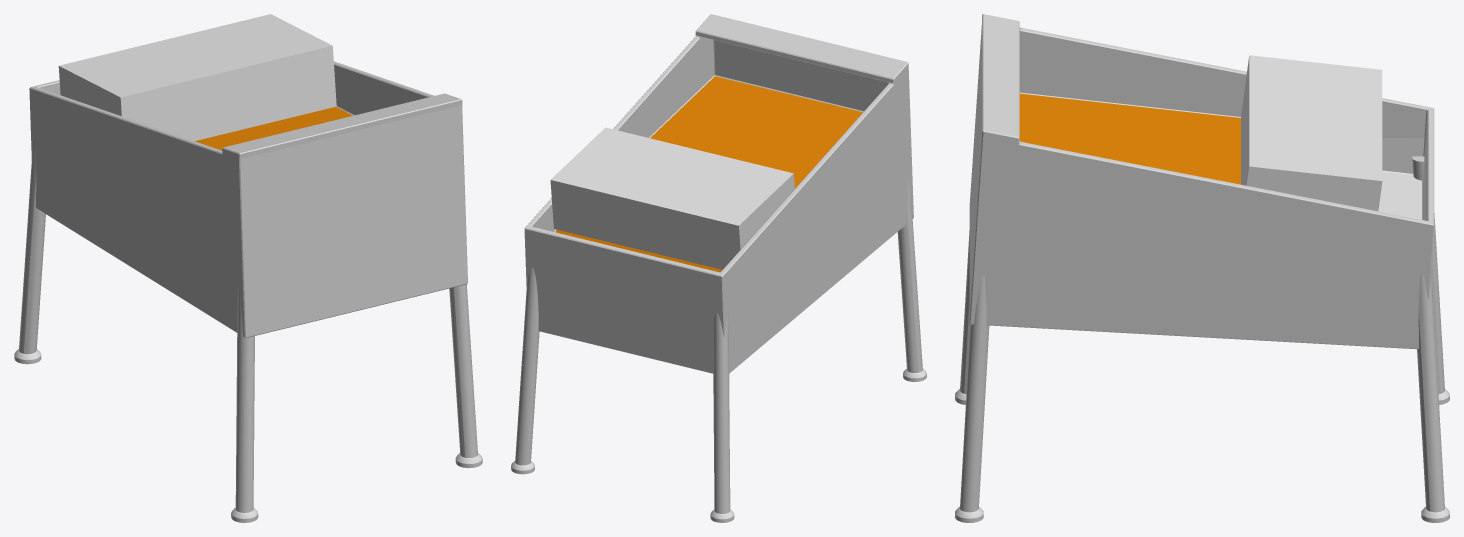
Rendered from ArcadeMachine1.fbx.
3 views of the same model, side by side, from view 1: azimuth 30°, elevation 25°; view 2: azimuth 150°, elevation 25°; view 3: azimuth 270°, elevation 25° (orthographic). The views are drawn at different scales.
Parts seen in each view (by area): view 1: Arcade, ActionAreaCube, Leg.001, Leg, Leg.003, ActionArea; view 2: Arcade, ActionAreaCube, ActionArea, Leg.003, Leg.002, Leg.001; view 3: Arcade, ActionAreaCube, ActionArea, Leg.002, Leg, Leg.003, Leg.001.
Boxes of the visible parts, <box> form: Arcade: <box>29,61,467,338</box>; ActionAreaCube: <box>58,14,336,141</box>; Leg.001: <box>231,287,258,522</box>; Leg: <box>449,284,482,468</box>; Leg.003: <box>14,138,45,364</box>; ActionArea: <box>195,107,352,150</box>; Arcade: <box>524,14,913,373</box>; ActionAreaCube: <box>550,127,794,269</box>; ActionArea: <box>650,76,862,188</box>; Leg.003: <box>710,312,734,522</box>; Leg.002: <box>511,267,539,474</box>; Leg.001: <box>897,181,926,381</box>; Arcade: <box>969,14,1434,349</box>; ActionAreaCube: <box>1241,55,1382,211</box>; ActionArea: <box>1019,93,1240,184</box>; Leg.002: <box>1417,272,1449,522</box>; Leg: <box>955,275,989,522</box>; Leg.003: <box>1412,156,1449,404</box>; Leg.001: <box>955,230,970,404</box>.
Bounding box in the file's own units: 88.68 × 123 × 143.
